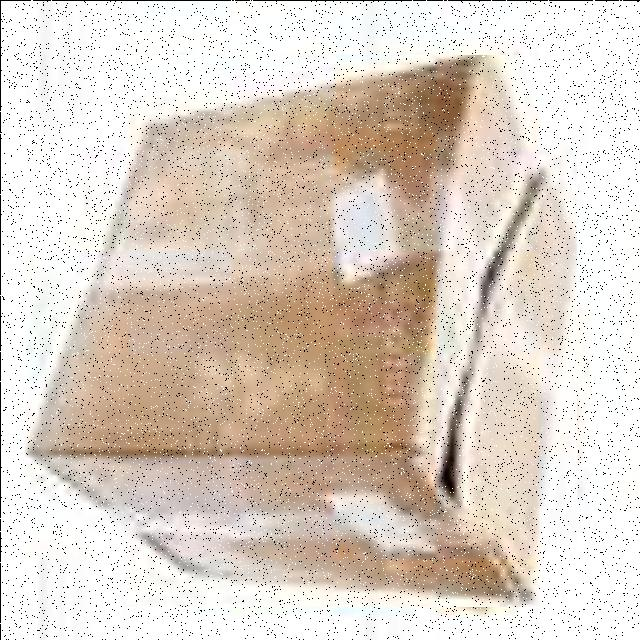defect: (23, 54, 576, 606)
